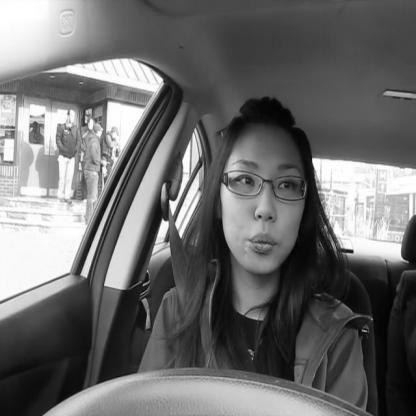seatbelt: (157, 54, 329, 416)
